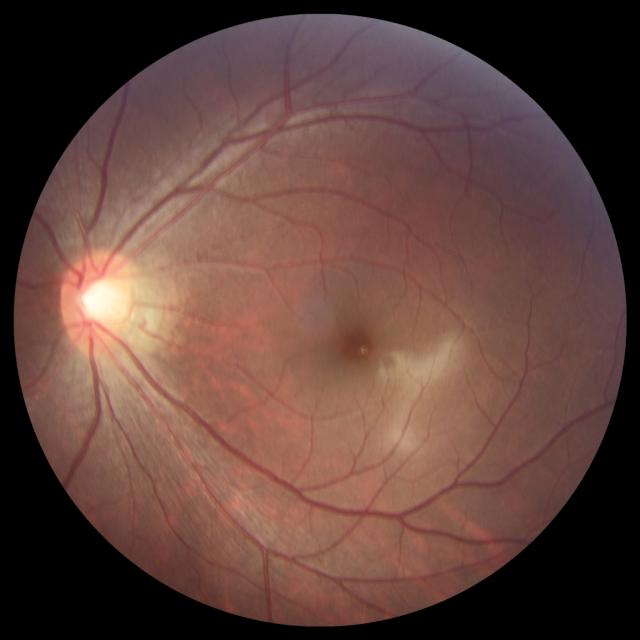OC: (78, 276, 119, 322)
OD: (58, 248, 136, 352)
